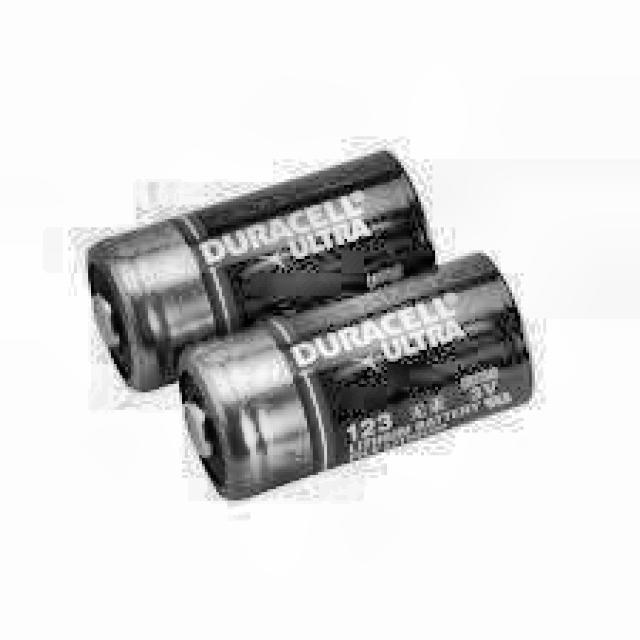Battery: (179, 267, 532, 498), (91, 159, 432, 390)
